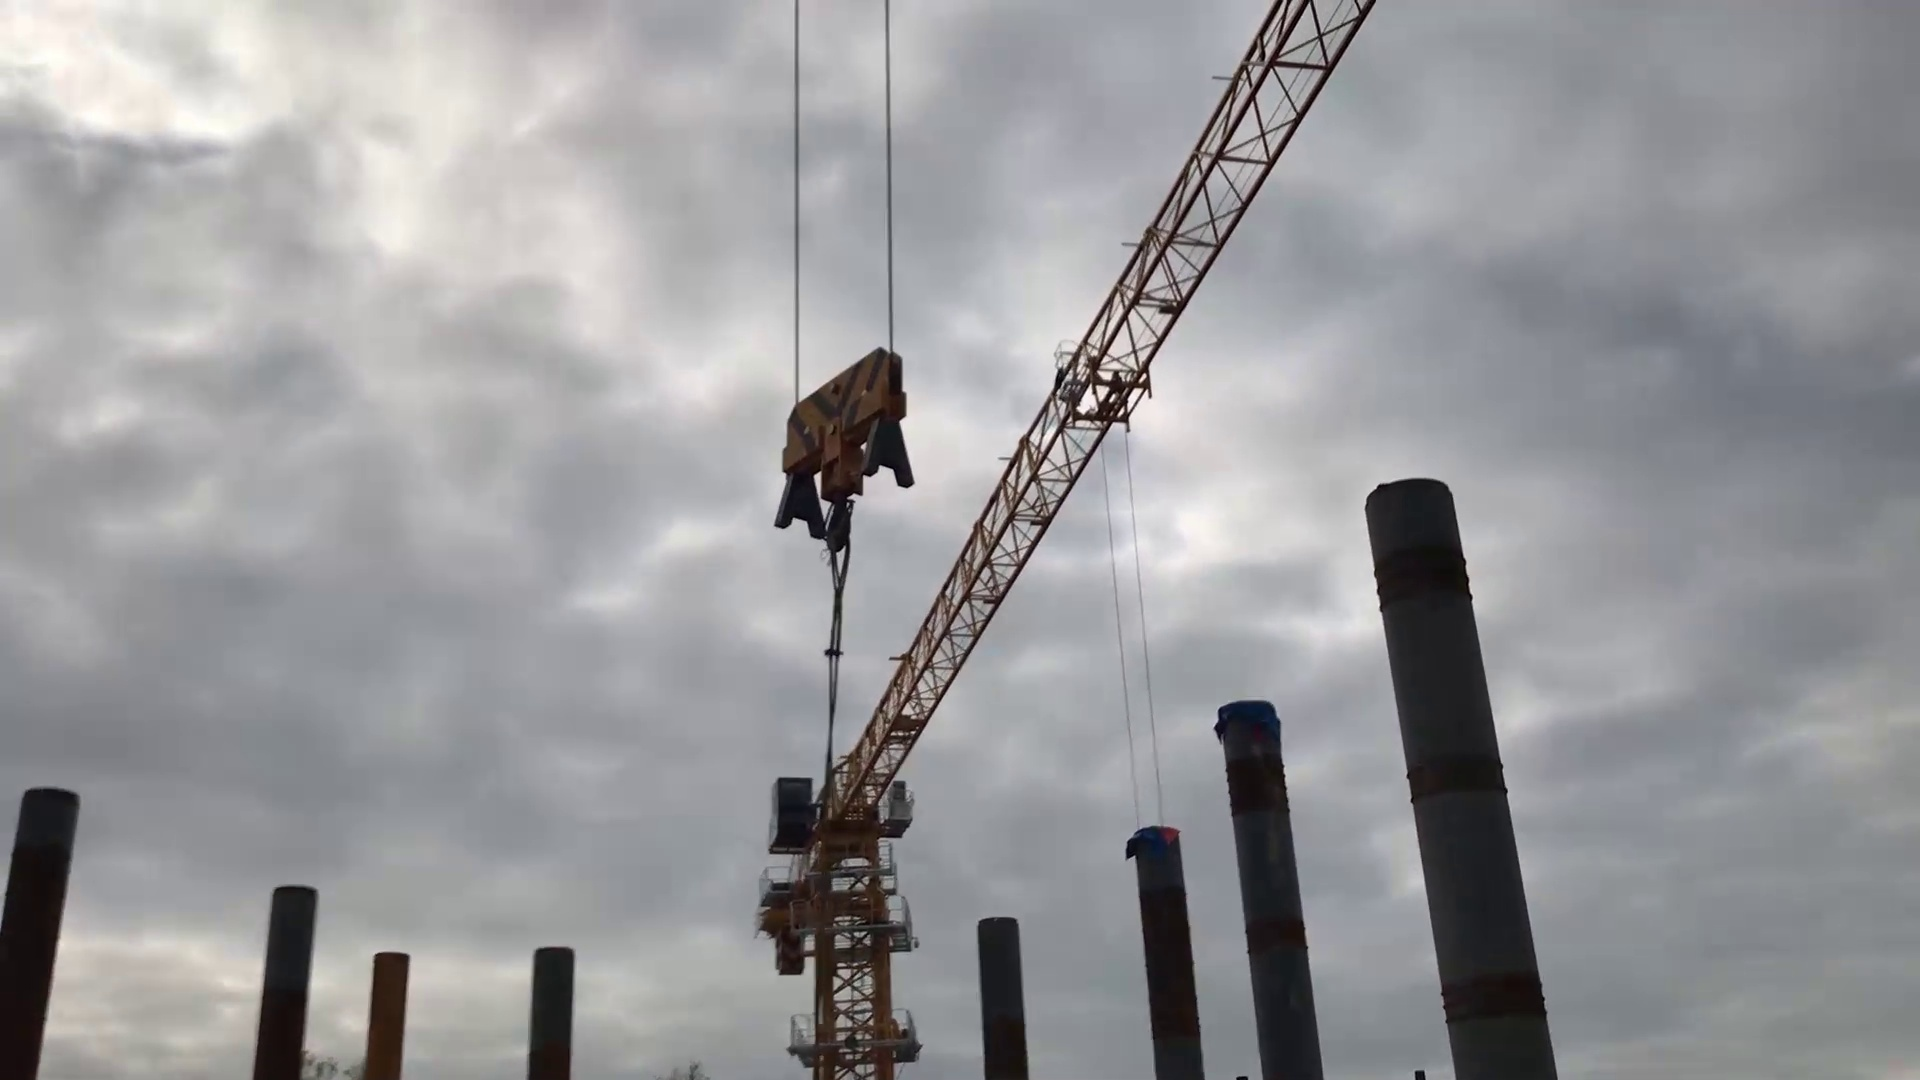hook: (767, 345, 919, 555)
